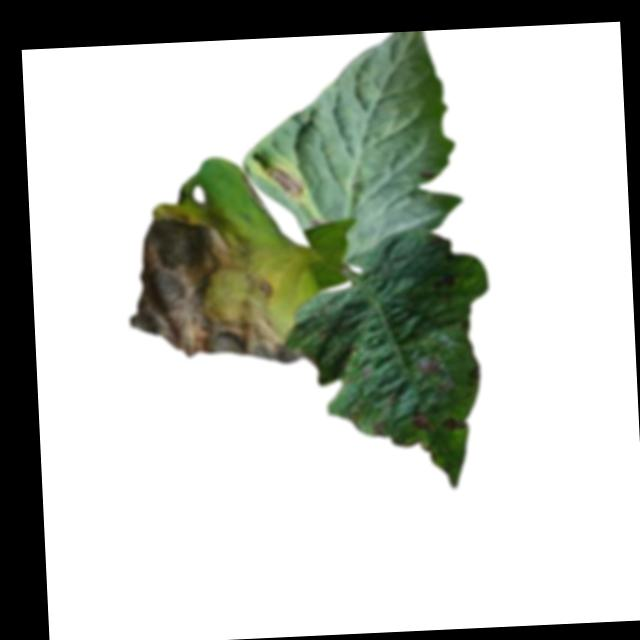Early_blight: (118, 188, 302, 379), (265, 161, 305, 197), (436, 411, 472, 433), (407, 411, 431, 434), (415, 354, 441, 374), (368, 418, 386, 438)
